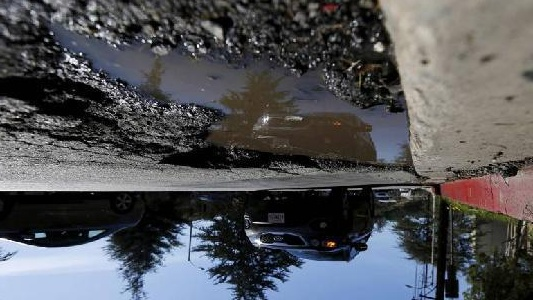pothole: (1, 0, 420, 176)
